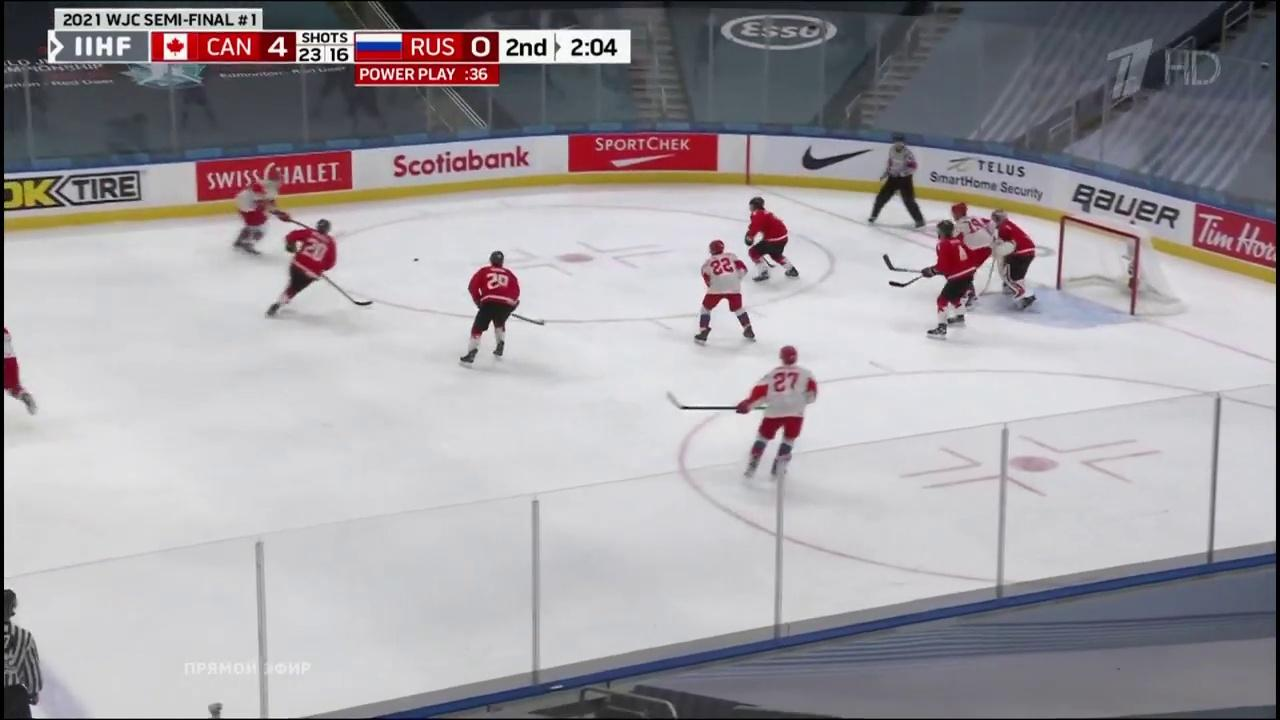ball: (413, 258, 419, 262)
